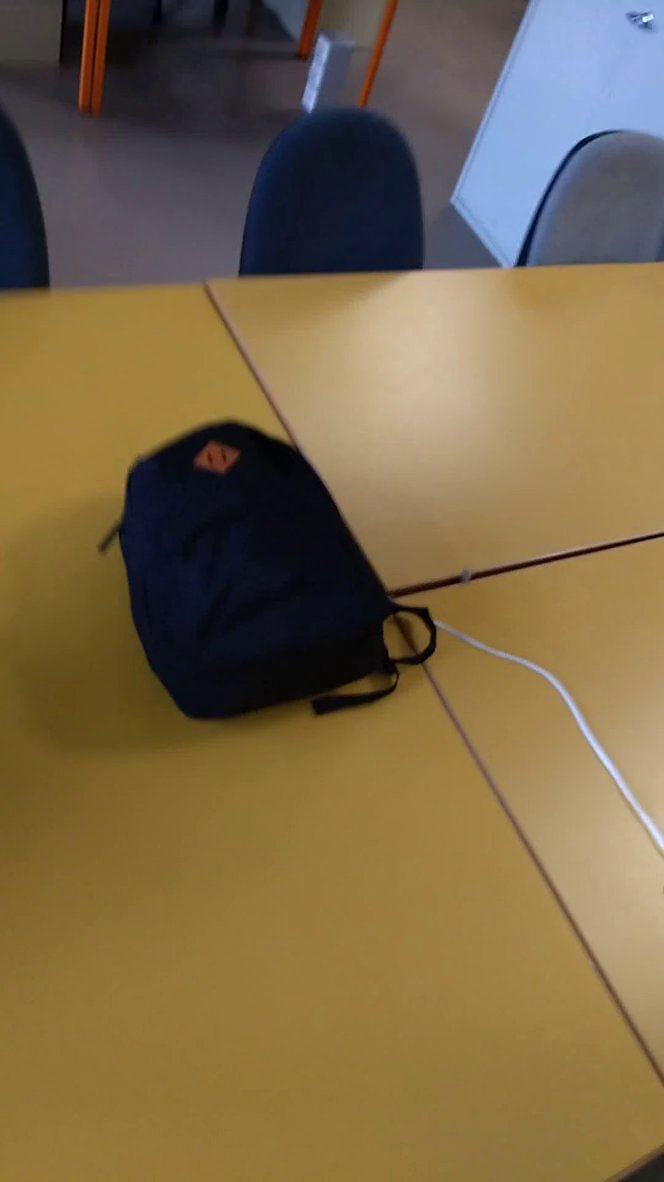bag: (92, 414, 453, 728)
chair: (220, 94, 443, 297), (504, 117, 664, 280)
